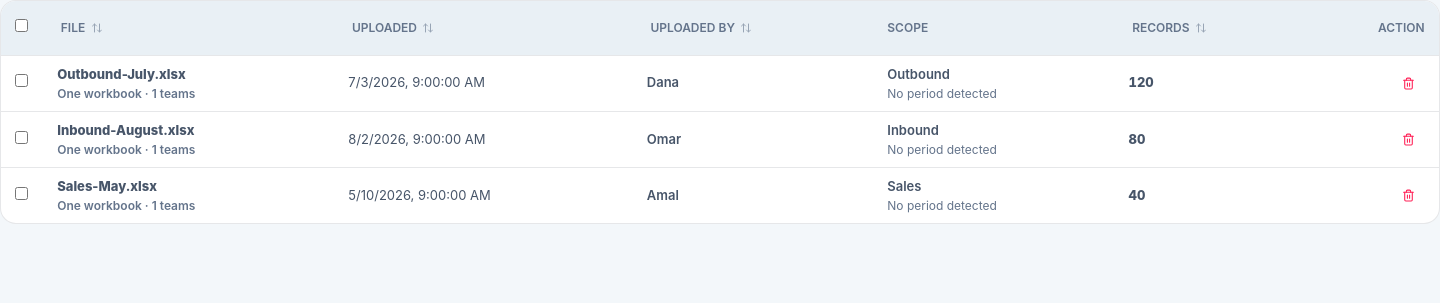
Test case: UploadHistory batch delete › drops the selection when the list reloads, so an id that no longer exists is never selected
The width and height of the screenshot is (1440, 303).
Click the checkbox named "Select Outbound-July.xlsx": (22,81) 15,74 -> 28,88
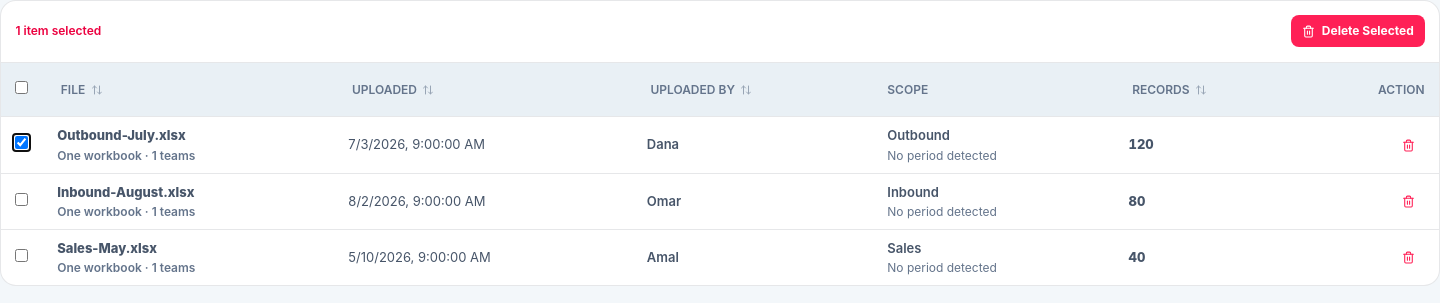
Expected: the text "1 item selected" is shown, 15,23 -> 101,39
